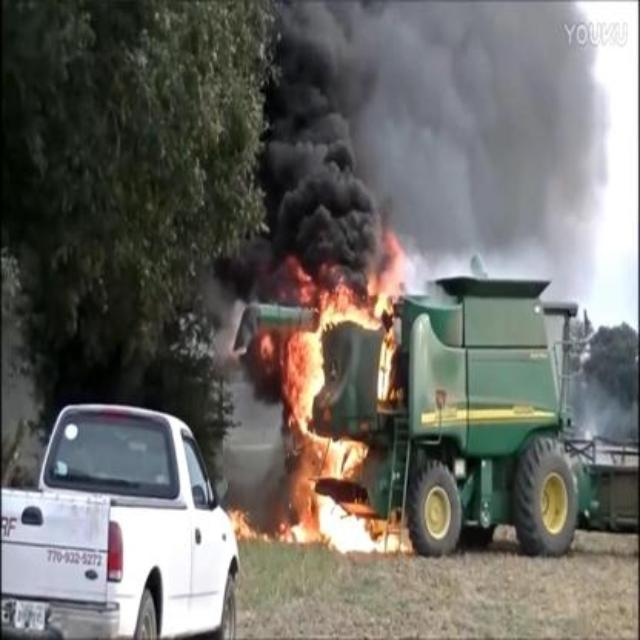Fire: (268, 245, 408, 550)
Smoke: (290, 7, 600, 227)
